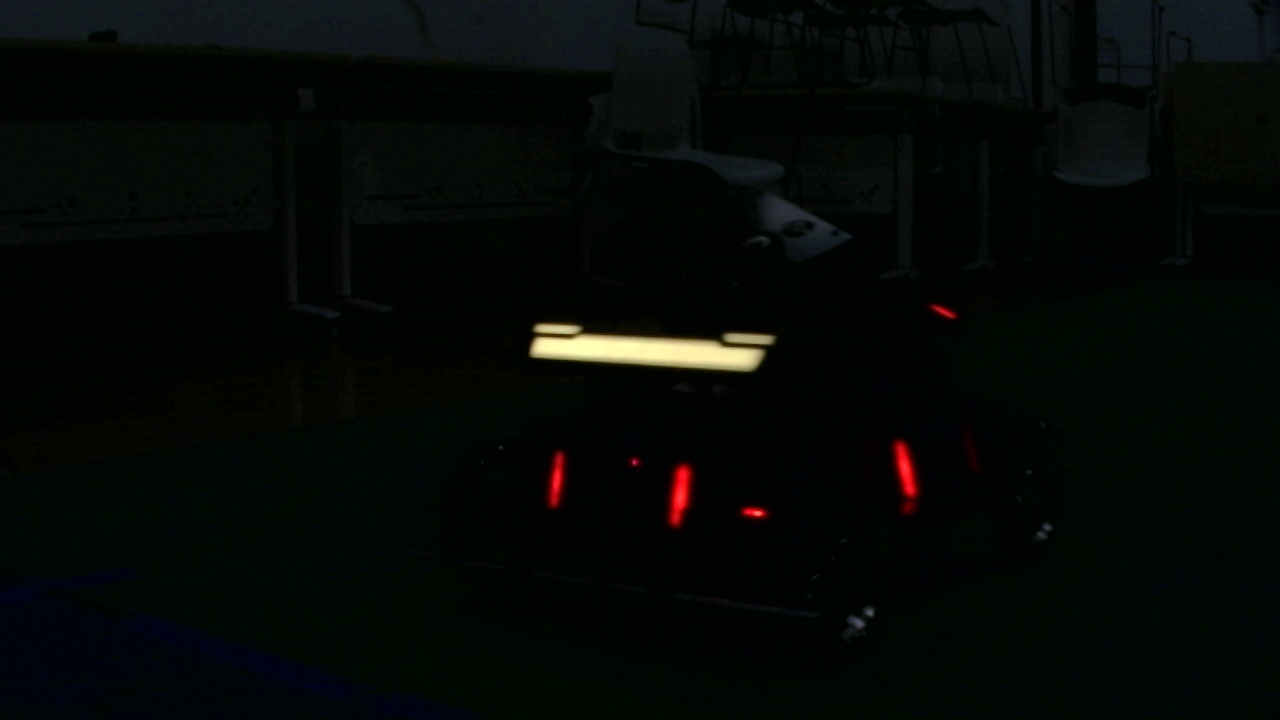lamp: (888, 437, 919, 501), (669, 464, 691, 531), (544, 449, 563, 514)
notpair1: (667, 441, 922, 529)
pair1: (550, 456, 696, 526)
